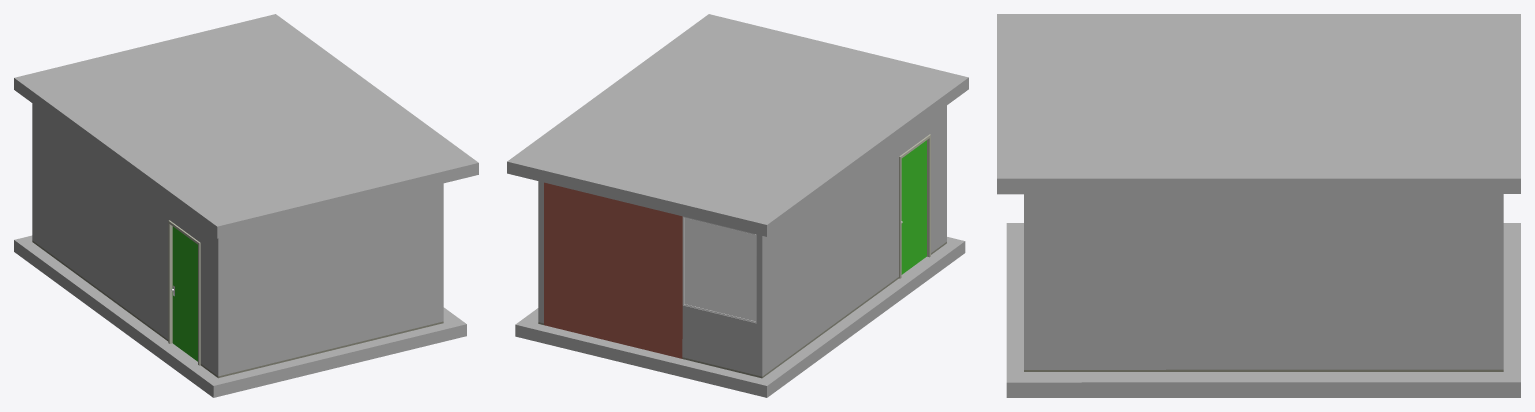
The model's file is FloorPlan318_physics.fbx.
3 views of the same model, side by side, from view 1: azimuth 30°, elevation 25°; view 2: azimuth 150°, elevation 25°; view 3: azimuth 270°, elevation 25° (orthographic). The views are drawn at different scales.
Visible parts, largest first — view 1: FP318:Ceiling.014, FP318:StandardWallSize.015, FP318:Floor.014, FP318:StandardDoor1.013, FP318:StandardDoorFrame1.013; view 2: FP318:Ceiling.014, FP318:StandardWallSize.015, FP318:Floor.014, FP318:WindowPane, FP318:StandardDoor1.013, FP318:StandardDoorFrame1.013, FP318:Window.009; view 3: FP318:Ceiling.014, FP318:StandardWallSize.015, FP318:Floor.014.
Part boxes in pixels (bbox=[...]): FP318:Ceiling.014: bbox=[14, 14, 478, 238]; FP318:StandardWallSize.015: bbox=[32, 103, 443, 378]; FP318:Floor.014: bbox=[14, 235, 466, 397]; FP318:StandardDoor1.013: bbox=[172, 226, 197, 361]; FP318:StandardDoorFrame1.013: bbox=[168, 220, 200, 365]; FP318:Ceiling.014: bbox=[507, 14, 968, 236]; FP318:StandardWallSize.015: bbox=[538, 105, 946, 378]; FP318:Floor.014: bbox=[515, 237, 965, 397]; FP318:WindowPane: bbox=[684, 218, 755, 321]; FP318:StandardDoor1.013: bbox=[901, 140, 926, 274]; FP318:StandardDoorFrame1.013: bbox=[899, 134, 930, 278]; FP318:Window.009: bbox=[682, 216, 756, 322]; FP318:Ceiling.014: bbox=[997, 14, 1520, 194]; FP318:StandardWallSize.015: bbox=[1024, 194, 1503, 371]; FP318:Floor.014: bbox=[1006, 223, 1520, 397].
Bounding box in the file's own units: 456 × 290 × 613.
